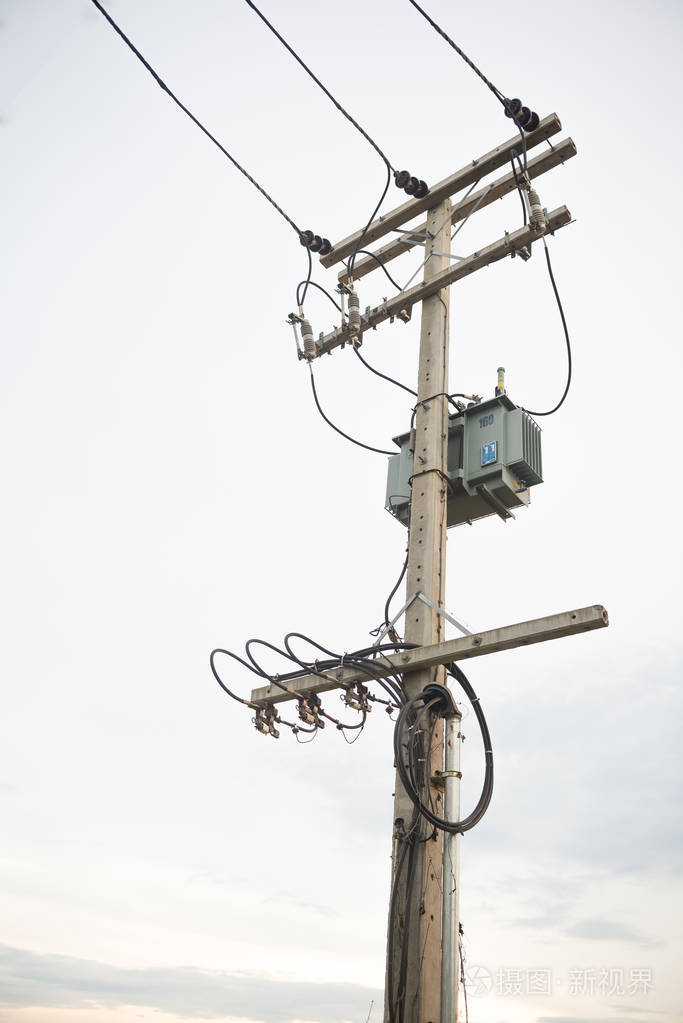insulator: (505, 100, 542, 130), (391, 171, 429, 195), (299, 228, 331, 255)
